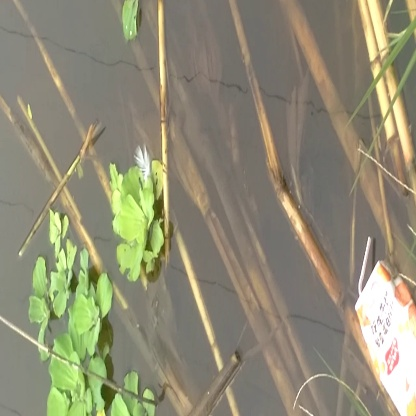milk-box: (345, 237, 416, 409)
